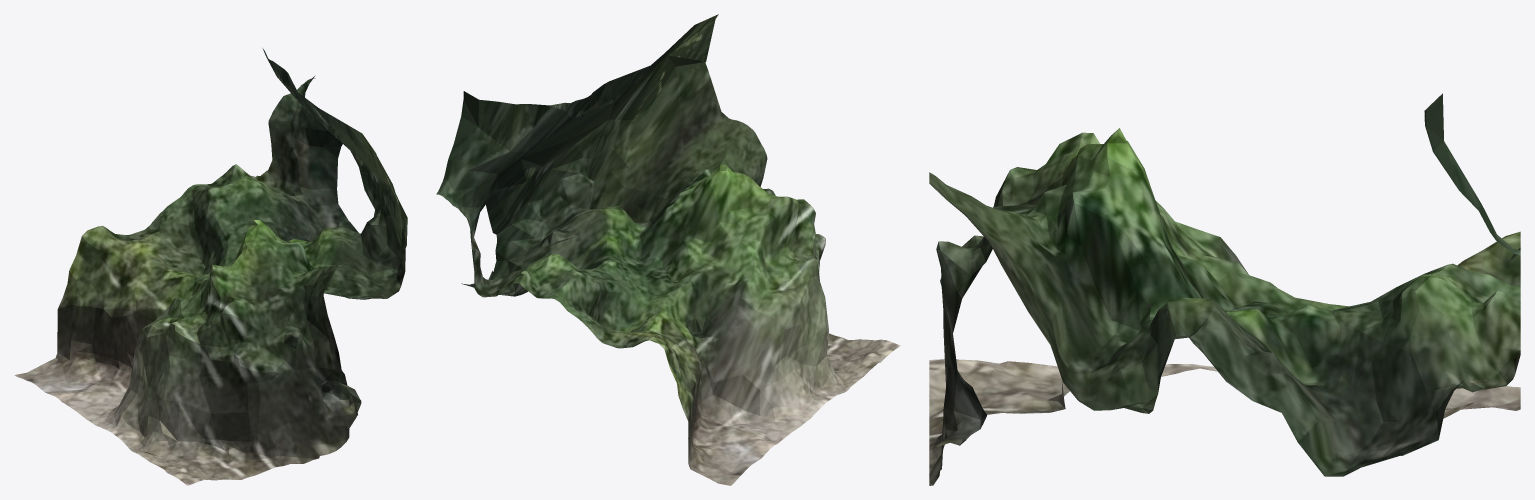
The picture shows the model from 3 angles, left to right: view 1: azimuth 30°, elevation 25°; view 2: azimuth 150°, elevation 25°; view 3: azimuth 270°, elevation 25°; orthographic projection. The views are drawn at different scales.
Size of the model in its own units: 5.9 by 5.81 by 5.9.
5 materials, 5 textured.
